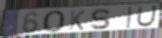6: (21, 11, 41, 35)
I: (126, 6, 133, 30)
K: (68, 10, 87, 31)
O: (42, 10, 67, 34)
S: (90, 8, 111, 31)
U: (136, 5, 158, 28)
